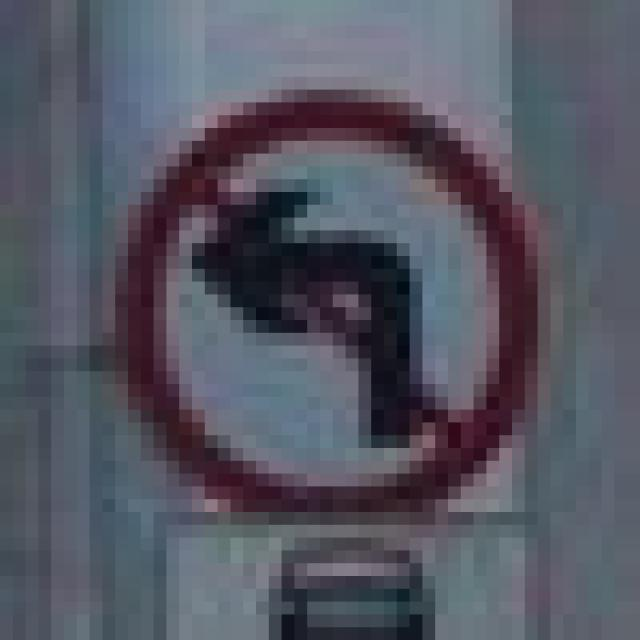do_not_turn_left: (102, 77, 525, 486)
